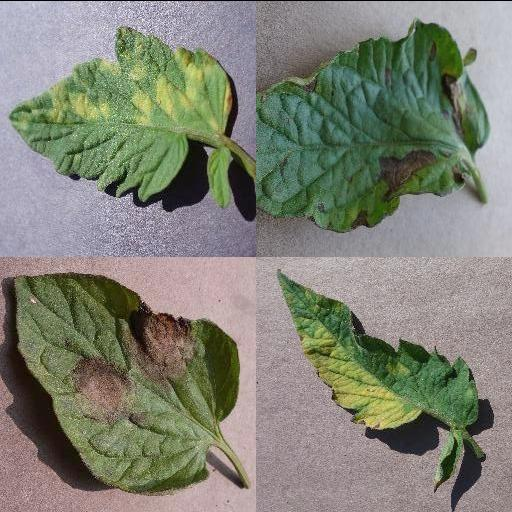Early Blight: (256, 21, 490, 233)
Late Blight: (11, 271, 239, 503)
Leaf Mold: (8, 24, 234, 202), (275, 266, 479, 431)
